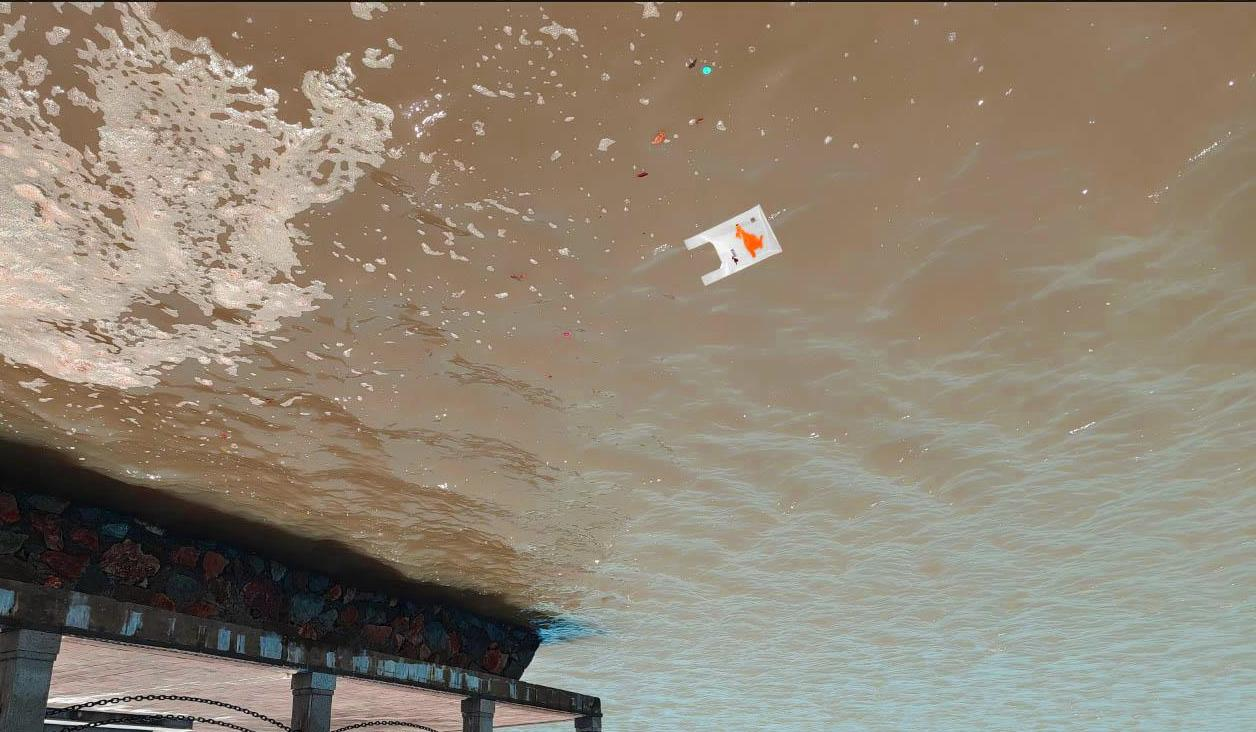Trash: (680, 196, 779, 287)
